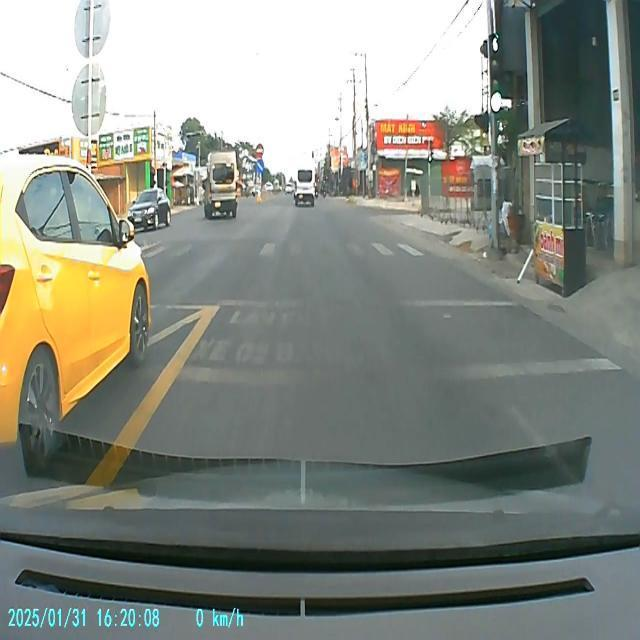102-cam-di-nguoc-chieu: (256, 143, 264, 157)
302a-huong-phai-di-vong-chuong-ngai-vat-1: (256, 158, 264, 175)
